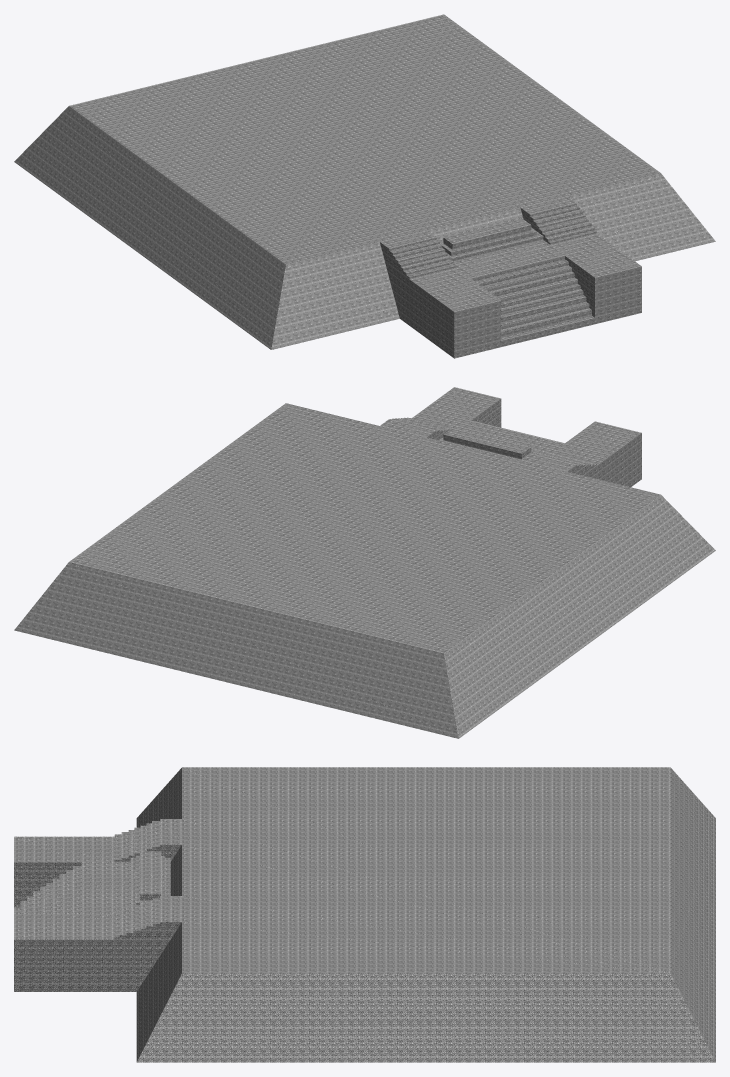
Rendered from Piramide_del_solBase.fbx.
3 views of the same model, one above another, from view 1: azimuth 30°, elevation 25°; view 2: azimuth 150°, elevation 25°; view 3: azimuth 270°, elevation 25° (orthographic). The views are drawn at different scales.
Visible parts, largest first — view 1: Group1; view 2: Group1; view 3: Group1.
Part boxes in pixels (<box>): Group1: <box>14,14,715,358</box>; Group1: <box>14,387,715,738</box>; Group1: <box>14,767,715,1062</box>.
Bounding box in the file's own units: 5.92 × 0.7913 × 7.18.
